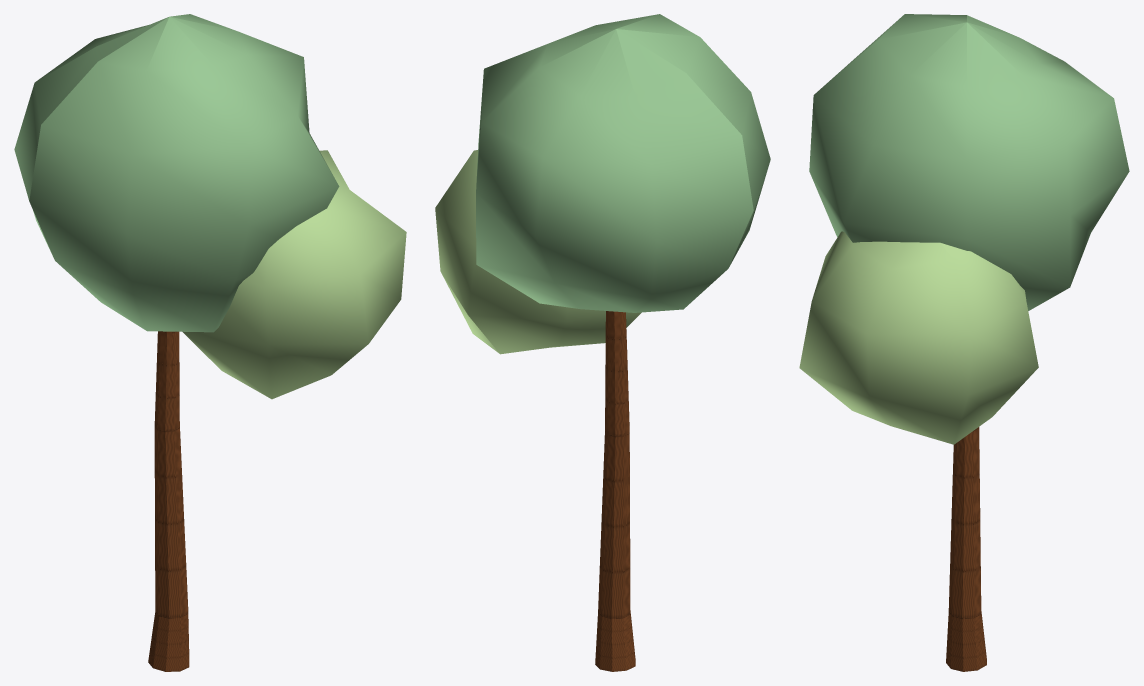
The model's file is oak_sapling.glb.
The picture shows the model from 3 angles, left to right: view 1: azimuth 30°, elevation 25°; view 2: azimuth 150°, elevation 25°; view 3: azimuth 270°, elevation 25°; orthographic projection.
Parts seen in each view (by area): view 1: oak-sapling; view 2: oak-sapling; view 3: oak-sapling.
Part boxes in pixels (bbox=[...]): oak-sapling: bbox=[14, 14, 406, 671]; oak-sapling: bbox=[435, 14, 770, 671]; oak-sapling: bbox=[799, 14, 1129, 671].
Size of the model in its own units: 0.793 by 1.5 by 0.701.
3 materials, 1 textured.
